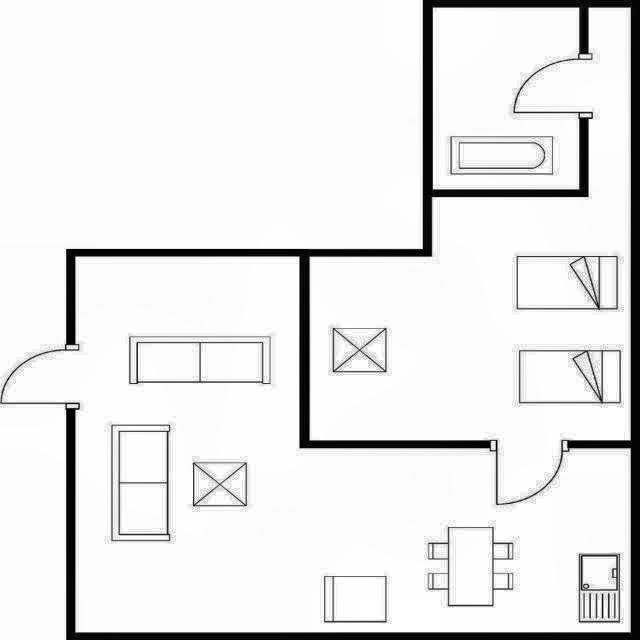room: (309, 7, 631, 440), (433, 8, 579, 189)
